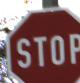Stop sign: (0, 0, 79, 82)
